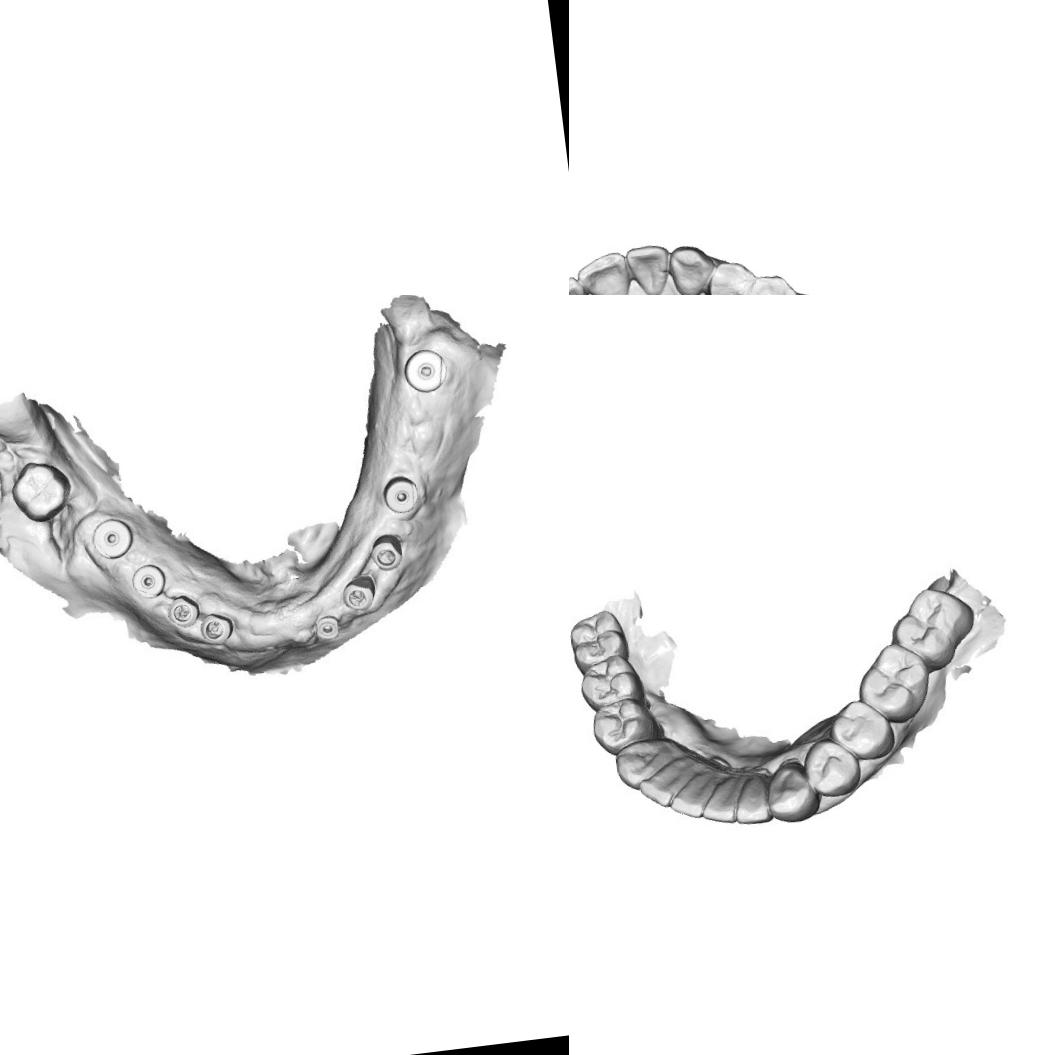canine: (610, 734, 688, 790), (764, 758, 818, 825), (666, 240, 717, 295)
implant: (396, 336, 448, 399), (88, 512, 138, 564), (378, 468, 424, 521), (339, 573, 381, 620), (125, 558, 168, 603), (163, 594, 204, 635), (368, 534, 408, 574), (198, 608, 236, 650), (314, 608, 344, 650)
incisor: (695, 754, 749, 828), (638, 758, 704, 812), (668, 761, 722, 822), (573, 249, 633, 295), (731, 767, 777, 826), (624, 242, 675, 295)
molar: (883, 582, 982, 676), (853, 641, 934, 726), (8, 452, 76, 528), (569, 605, 632, 675)
premolar: (823, 694, 897, 766), (588, 696, 660, 757), (800, 736, 862, 802), (578, 654, 648, 710), (700, 257, 760, 295), (736, 271, 802, 295)
